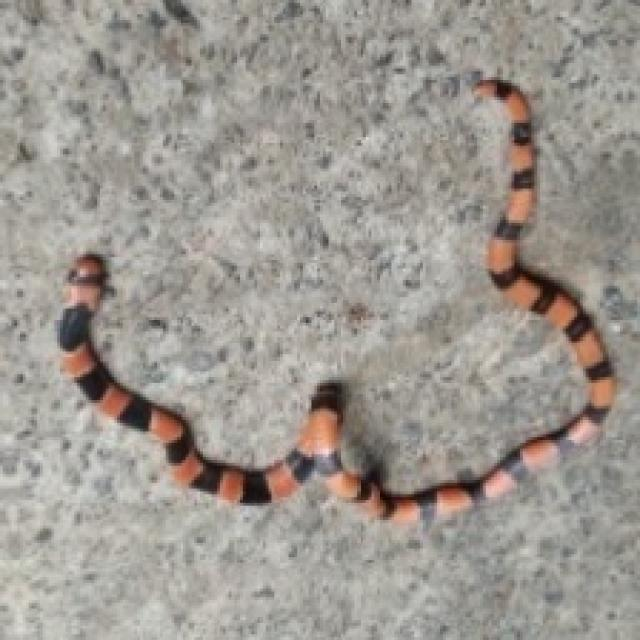barredcoral snake: (57, 80, 614, 520)
